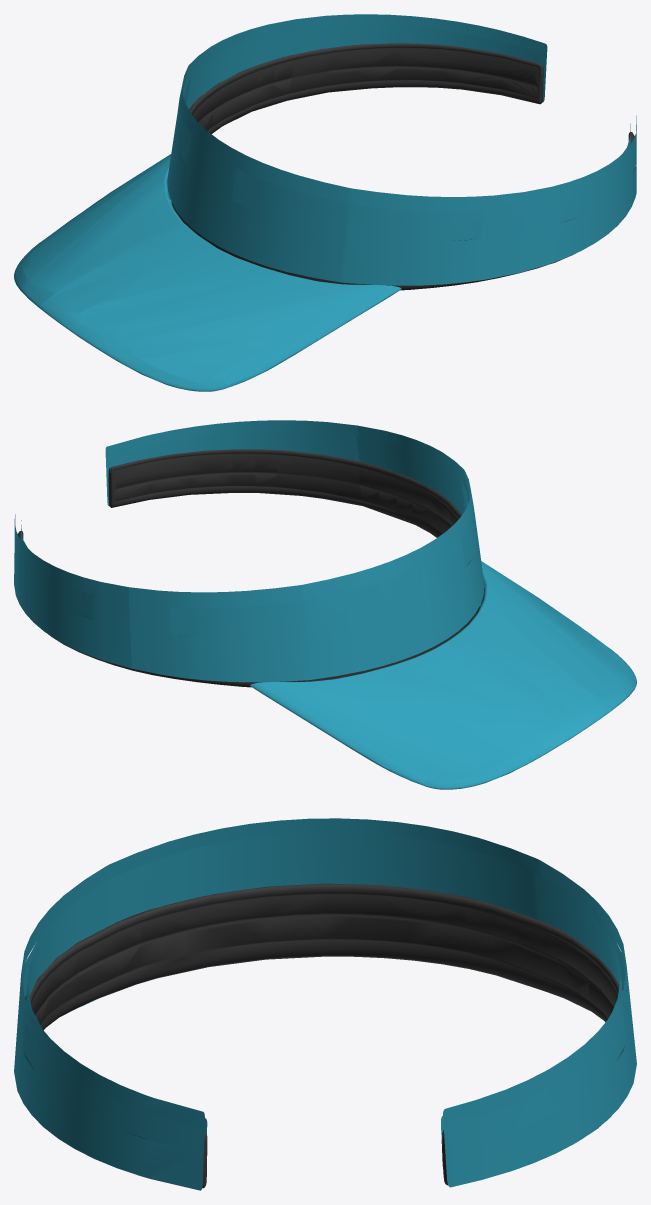
The model's file is visor.fbx.
3 views of the same model, one above another, from view 1: azimuth 30°, elevation 25°; view 2: azimuth 150°, elevation 25°; view 3: azimuth 270°, elevation 25° (orthographic). The views are drawn at different scales.
Parts seen in each view (by area): view 1: Cylinder.007_Material.004_0; view 2: Cylinder.007_Material.004_0; view 3: Cylinder.007_Material.004_0.
Boxes of the visible parts, x1,y1,x2,y2 form: Cylinder.007_Material.004_0: (14,14,636,391); Cylinder.007_Material.004_0: (14,420,636,789); Cylinder.007_Material.004_0: (14,818,636,1190).
Size of the model in its own units: 274 by 81.54 by 206.
